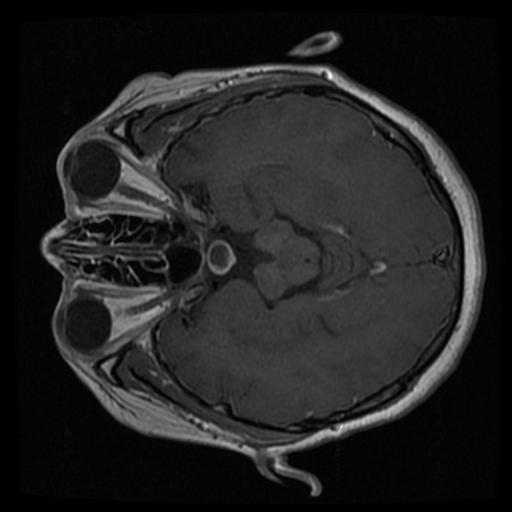pituitary tumour: (203, 238, 235, 276)
